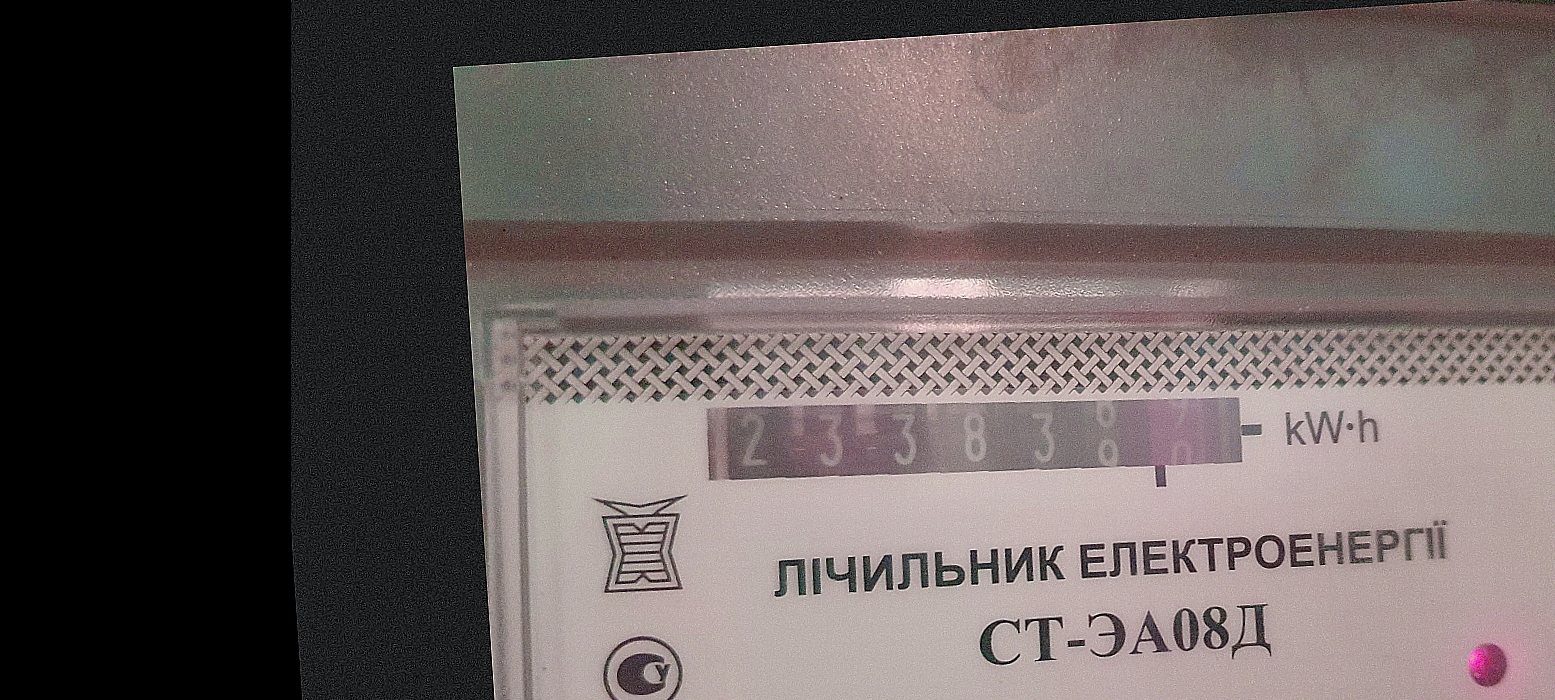0: (1168, 436, 1196, 471)
2: (733, 407, 775, 471)
3: (884, 405, 924, 471), (1029, 405, 1061, 464), (816, 409, 847, 469)
8: (957, 405, 994, 465), (1093, 395, 1121, 429)
9: (1163, 392, 1196, 433), (1094, 433, 1125, 471)
screen: (675, 349, 1276, 544)
